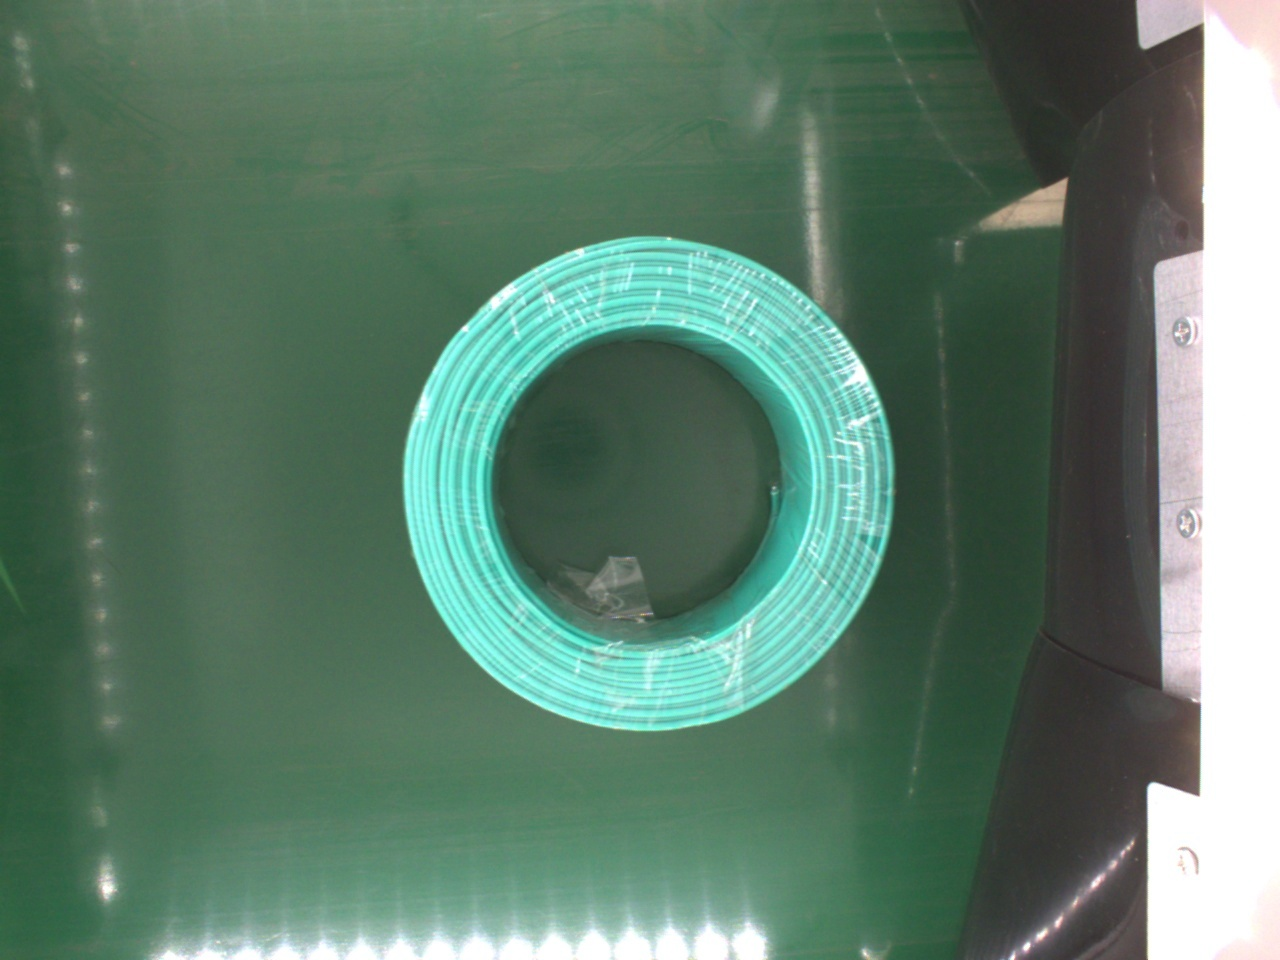green: (405, 236, 895, 733)
